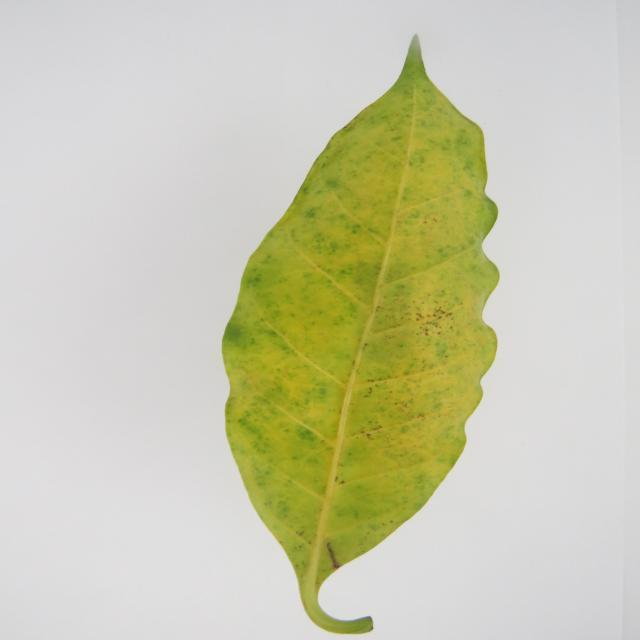DeficienciaNutricional-Calcio: (223, 38, 498, 634)
